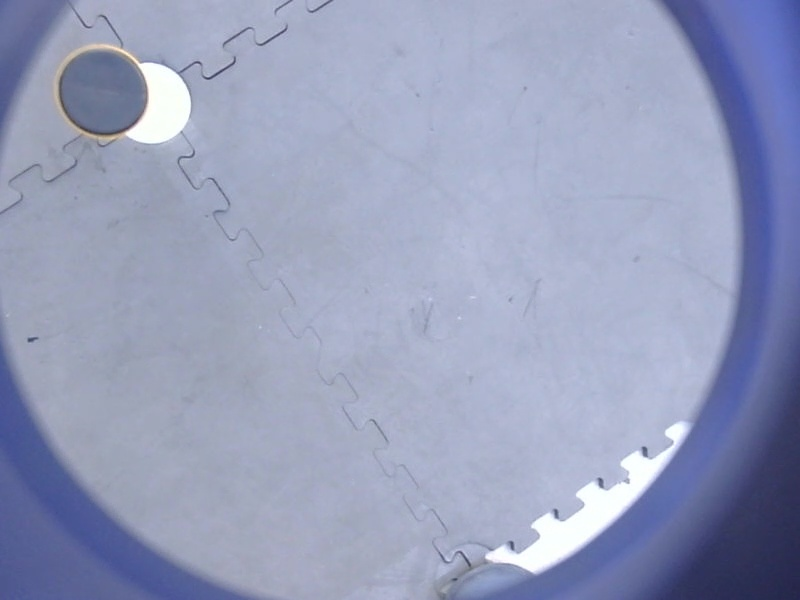tip: (50, 39, 156, 146)
